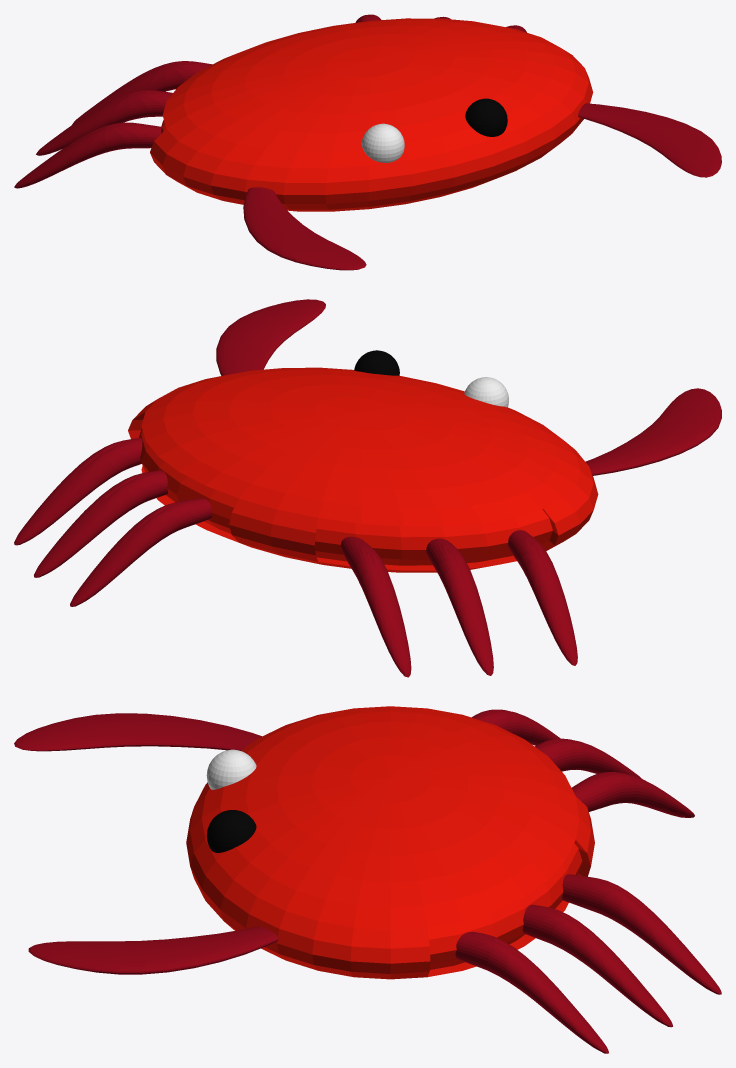
The model's file is Cangrejo.fbx.
3 views of the same model, one above another, from view 1: azimuth 30°, elevation 25°; view 2: azimuth 150°, elevation 25°; view 3: azimuth 270°, elevation 25° (orthographic). The views are drawn at different scales.
Visible parts, largest first — view 1: Esfera.001, Esfera.005, Esfera.006, Esfera.002, Esfera.007, Esfera.008, Esfera.012, Esfera.014; view 2: Esfera.001, Esfera.005, Esfera.006, Esfera.009, Esfera.010, Esfera.011, Esfera.008, Esfera.007, Esfera.002, Esfera.012, Esfera.014; view 3: Esfera.001, Esfera.006, Esfera.005, Esfera.009, Esfera.011, Esfera.010, Esfera.008, Esfera.007, Esfera.014, Esfera.002, Esfera.012.
Boxes of the visible parts, x1,y1,x2,y2 form: Esfera.001: (150, 18, 593, 211); Esfera.005: (243, 187, 366, 270); Esfera.006: (578, 103, 721, 177); Esfera.002: (14, 122, 161, 188); Esfera.007: (36, 90, 172, 155); Esfera.008: (72, 61, 212, 124); Esfera.012: (361, 123, 404, 162); Esfera.014: (465, 98, 507, 136); Esfera.001: (128, 367, 598, 572); Esfera.005: (585, 388, 721, 475); Esfera.006: (216, 299, 325, 375); Esfera.009: (70, 498, 211, 606); Esfera.010: (34, 470, 167, 577); Esfera.011: (14, 437, 142, 545); Esfera.008: (340, 536, 411, 677); Esfera.007: (426, 538, 493, 675); Esfera.002: (508, 530, 577, 665); Esfera.012: (464, 377, 508, 407); Esfera.014: (354, 350, 399, 375); Esfera.001: (186, 706, 594, 979); Esfera.006: (28, 926, 278, 974); Esfera.005: (14, 713, 261, 751); Esfera.009: (562, 874, 721, 994); Esfera.011: (455, 931, 608, 1053); Esfera.010: (522, 904, 672, 1027); Esfera.008: (572, 772, 694, 817); Esfera.007: (535, 738, 641, 778); Esfera.014: (206, 810, 256, 852); Esfera.002: (471, 709, 560, 745); Esfera.012: (206, 749, 256, 789).
Size of the model in its own units: 356 by 76.47 by 354.
